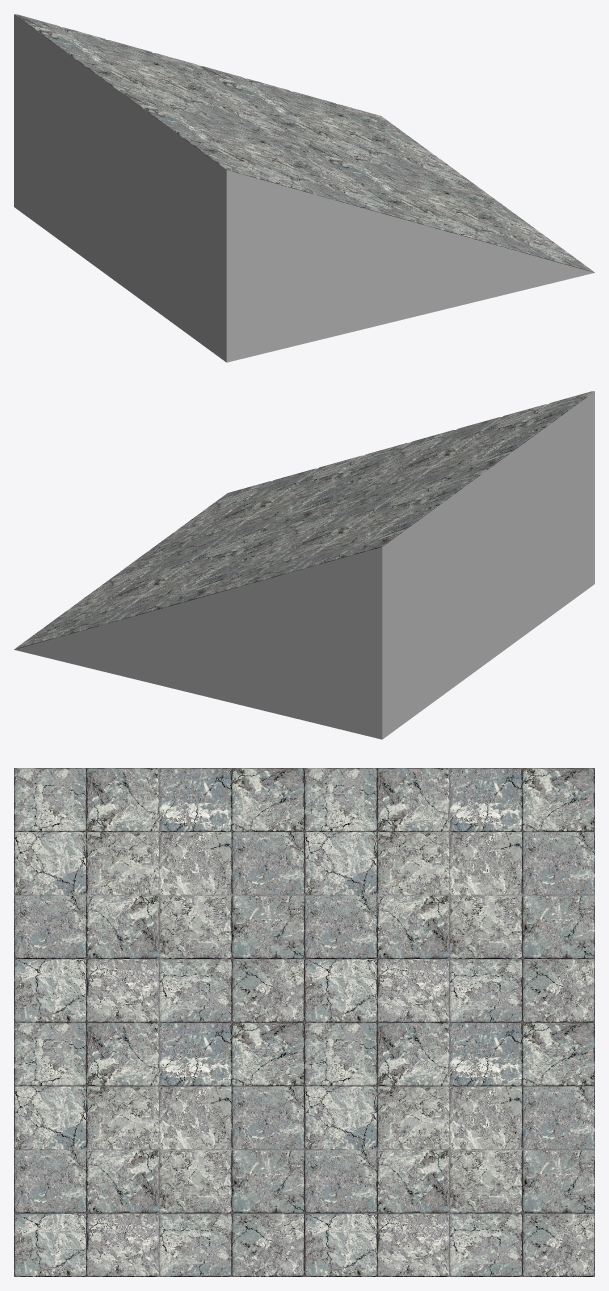
The model's file is Rampe_4m.gltf.
3 renders of one model, top to bottom at view 1: azimuth 30°, elevation 25°; view 2: azimuth 150°, elevation 25°; view 3: azimuth 270°, elevation 25°, orthographic. The views are drawn at different scales.
Parts seen in each view (by area): view 1: Rampe_4m; view 2: Rampe_4m; view 3: Rampe_4m.
Boxes of the visible parts, bbox=[...] form: Rampe_4m: bbox=[14, 14, 594, 362]; Rampe_4m: bbox=[14, 391, 594, 739]; Rampe_4m: bbox=[14, 768, 594, 1276].
Bounding box in the file's own units: 8 × 4 × 8.
